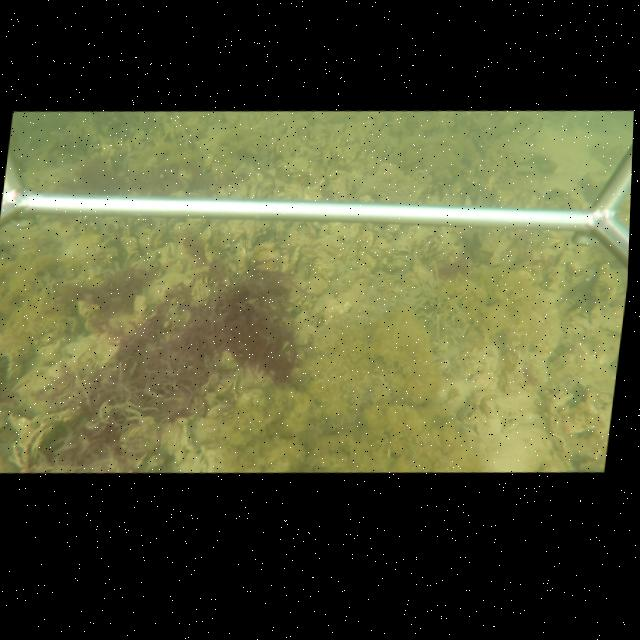Oyster-Open: (303, 271, 329, 295)
